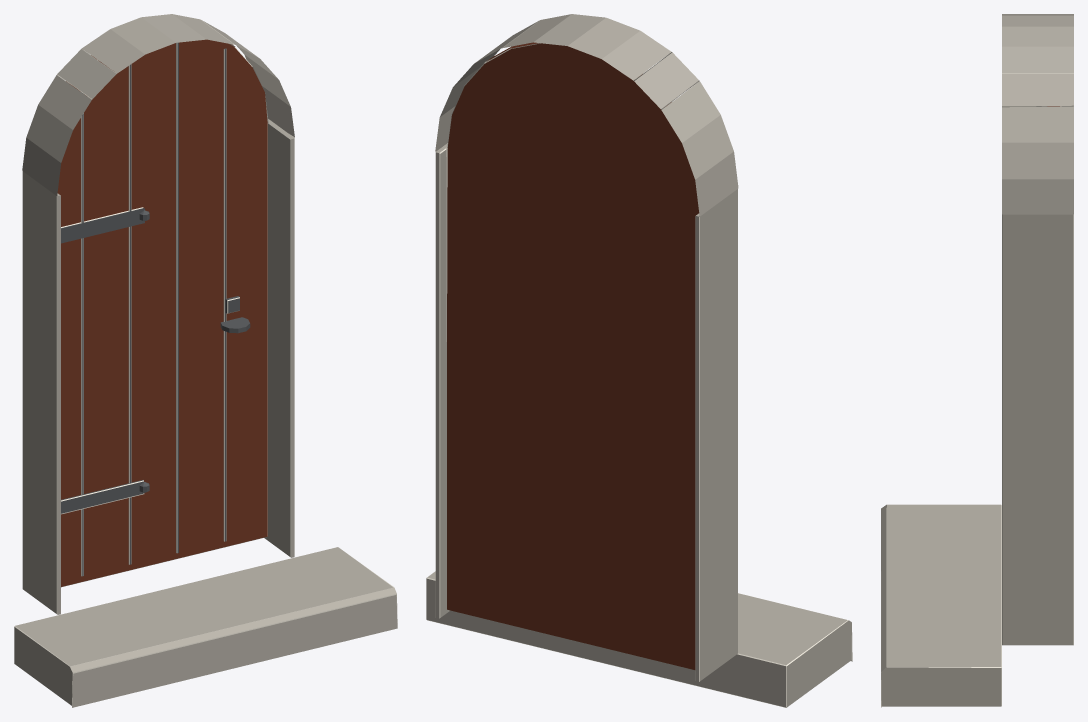
Rendered from kit_door_arch.obj.
The picture shows the model from 3 angles, left to right: view 1: azimuth 30°, elevation 25°; view 2: azimuth 150°, elevation 25°; view 3: azimuth 270°, elevation 25°; orthographic projection. The views are drawn at different scales.
Visible parts, largest first — view 1: kit_door_arch; view 2: kit_door_arch; view 3: kit_door_arch.
Boxes of the visible parts, x1=… form: kit_door_arch: x1=14, y1=14, x2=397, y2=707; kit_door_arch: x1=426, y1=14, x2=852, y2=707; kit_door_arch: x1=881, y1=14, x2=1073, y2=707.
Size of the model in its own units: 1.51 by 2.57 by 0.7504.
